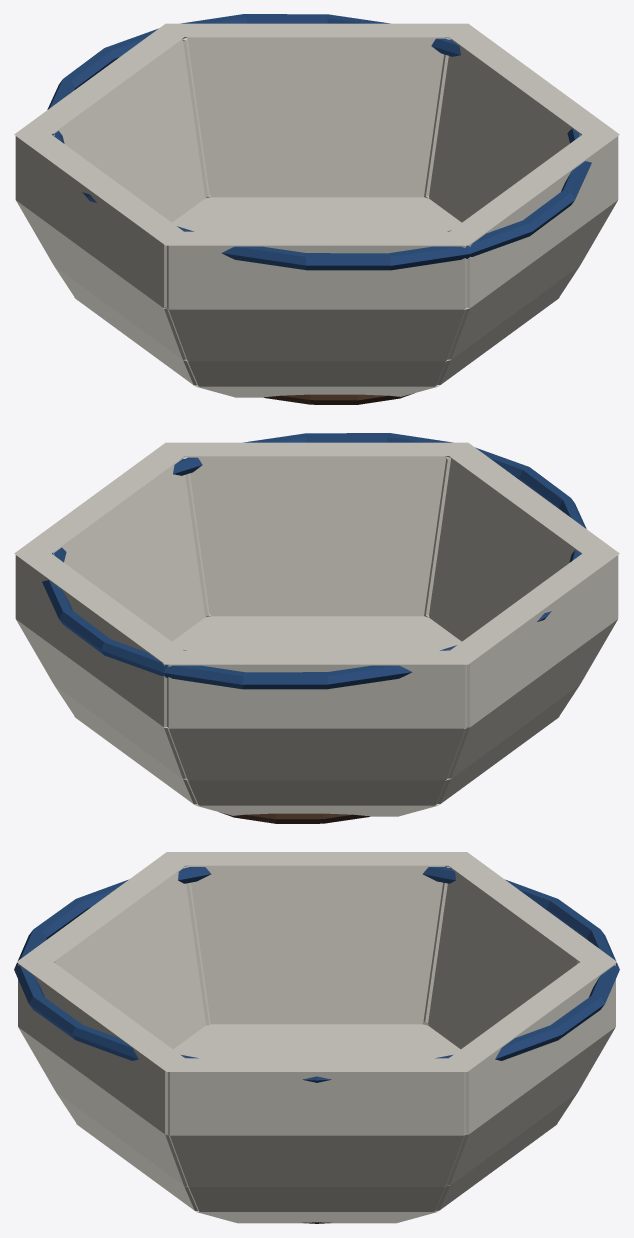
Rendered from bowl.glb.
3 views of the same model, one above another, from view 1: azimuth 30°, elevation 25°; view 2: azimuth 150°, elevation 25°; view 3: azimuth 270°, elevation 25° (orthographic).
Visible parts, largest first — view 1: bowl; view 2: bowl; view 3: bowl.
Boxes of the visible parts, x1=… form: bowl: x1=14, y1=14, x2=619, y2=404; bowl: x1=14, y1=433, x2=619, y2=823; bowl: x1=14, y1=852, x2=619, y2=1223.
Bounding box in the file's own units: 0.5022 × 0.2138 × 0.5798.
